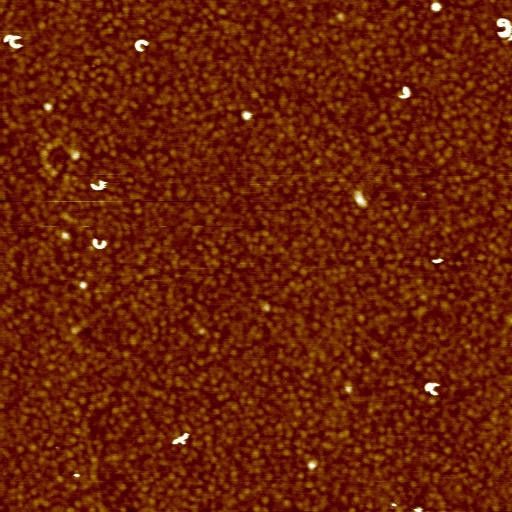-1: (351, 186, 370, 212), (170, 430, 192, 449), (431, 1, 445, 14), (243, 109, 254, 122), (307, 459, 320, 470), (432, 256, 444, 265), (72, 470, 82, 480)
1/4: (395, 84, 415, 101)
2/4: (3, 32, 25, 49), (424, 381, 442, 397), (134, 38, 151, 53), (90, 179, 107, 192), (90, 239, 109, 249)
3/4: (494, 17, 511, 39)
